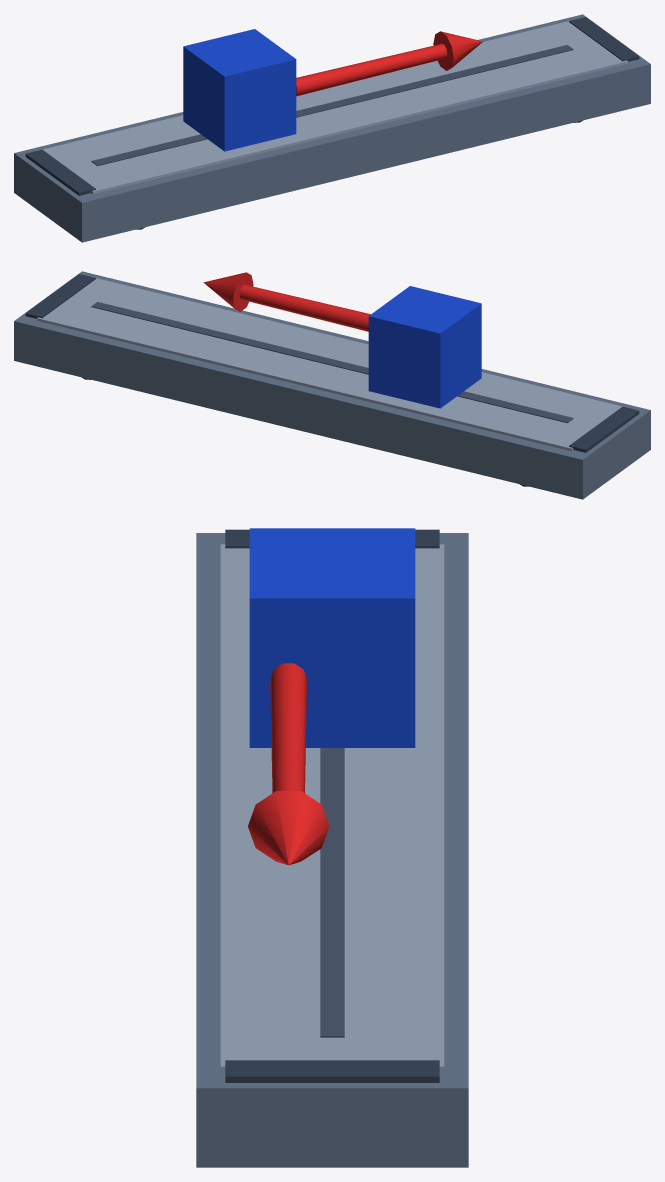
File: newton-force.glb
3 renders of one model, top to bottom at view 1: azimuth 30°, elevation 25°; view 2: azimuth 150°, elevation 25°; view 3: azimuth 270°, elevation 25°, orthographic. The views are drawn at different scales.
Visible parts, largest first — view 1: Lintasan, Balok, PanahGaya; view 2: Lintasan, Balok, PanahGaya; view 3: Lintasan, Balok, PanahGaya.
Part boxes in pixels (bbox=[...]): Lintasan: bbox=[14, 14, 650, 242]; Balok: bbox=[183, 29, 296, 151]; PanahGaya: bbox=[296, 31, 483, 96]; Lintasan: bbox=[14, 271, 650, 499]; Balok: bbox=[368, 286, 481, 408]; PanahGaya: bbox=[203, 272, 370, 331]; Lintasan: bbox=[196, 529, 468, 1167]; Balok: bbox=[249, 528, 415, 747]; PanahGaya: bbox=[248, 663, 329, 865].
Bounding box in the file's own units: 1.35 × 0.284 × 0.28.
